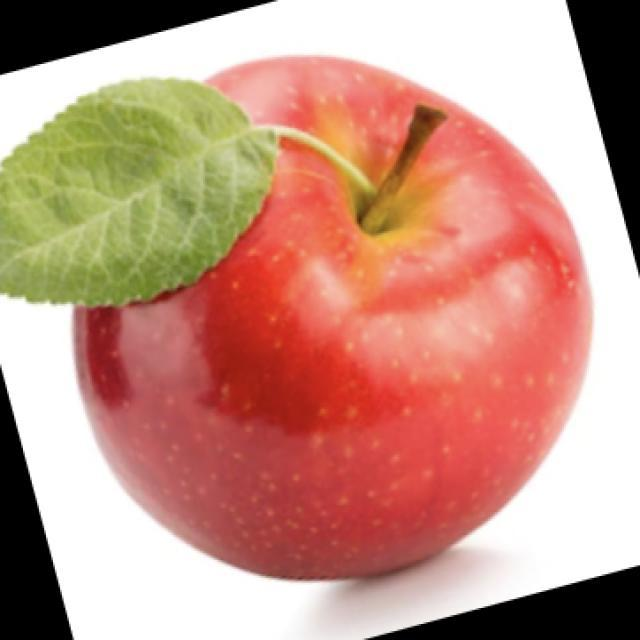Fresh Apple: (58, 57, 572, 588)
